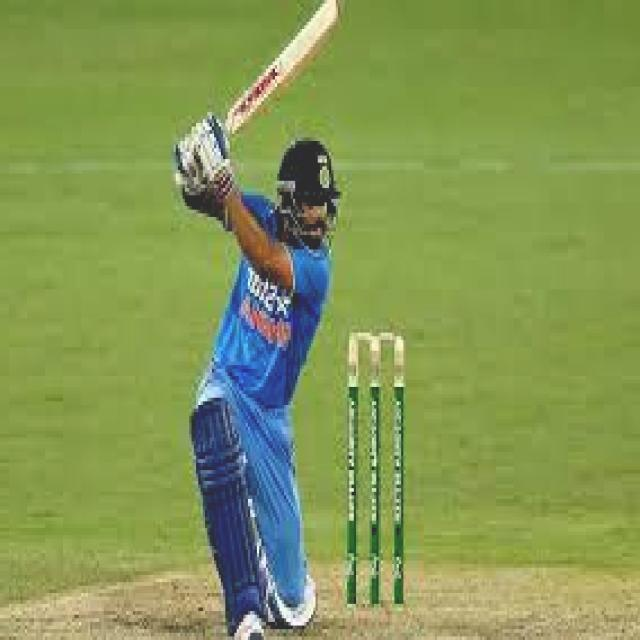toe: (311, 0, 345, 40)
